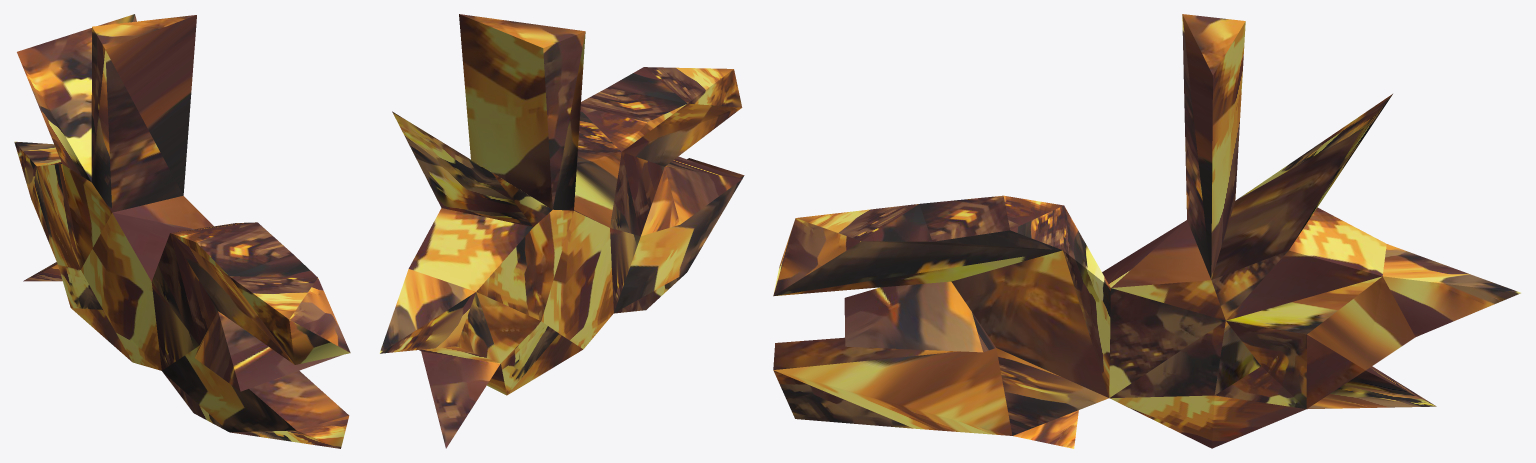
The picture shows the model from 3 angles, left to right: view 1: azimuth 30°, elevation 25°; view 2: azimuth 150°, elevation 25°; view 3: azimuth 270°, elevation 25°; orthographic projection. The views are drawn at different scales.
Visible parts, largest first — view 1: ai_model; view 2: ai_model; view 3: ai_model.
Part boxes in pixels (box(x1,y1,x2,y2)): ai_model: box(14, 14, 350, 448); ai_model: box(379, 14, 744, 448); ai_model: box(773, 14, 1520, 448).
Bounding box in the file's own units: 0.1994 × 0.5592 × 0.9804.
